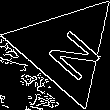N_NW: (32, 17, 98, 80)
